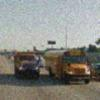buses: (45, 49, 92, 85)
